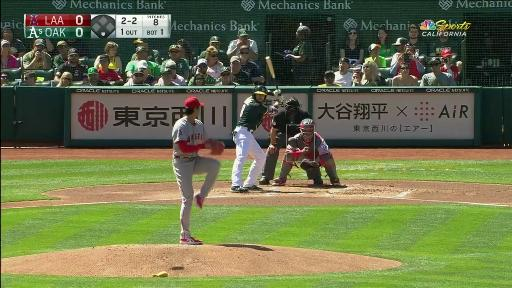pitcher: (172, 96, 225, 246)
